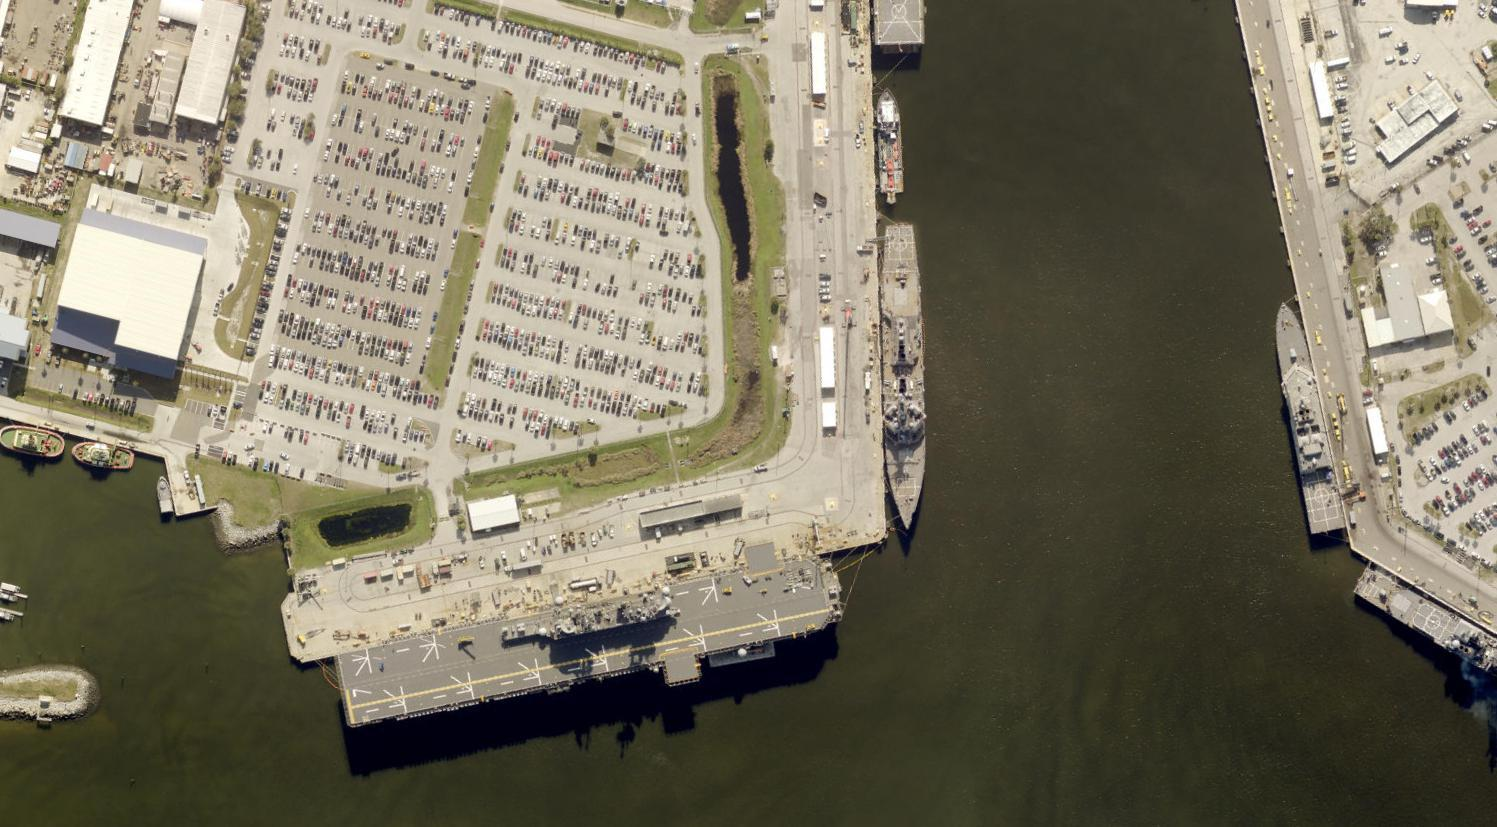fregate: (871, 203, 948, 535)
patrol: (1261, 289, 1359, 550)
pha: (316, 541, 860, 738)
